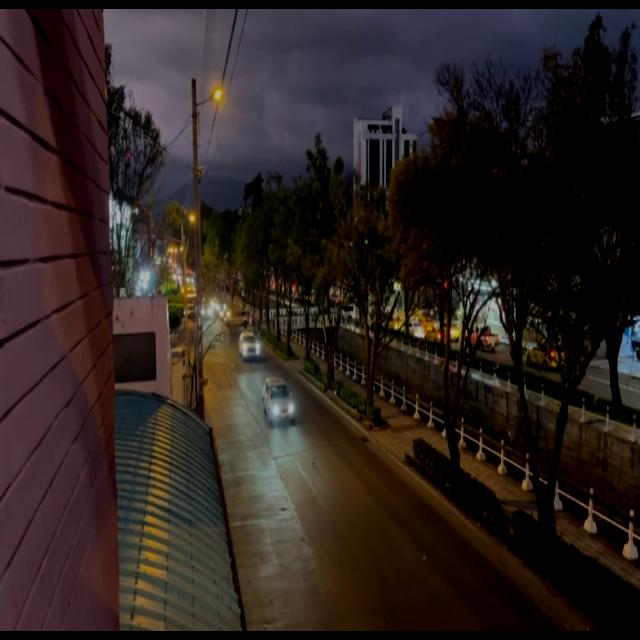SUV: (265, 381, 294, 424), (241, 333, 260, 361)
